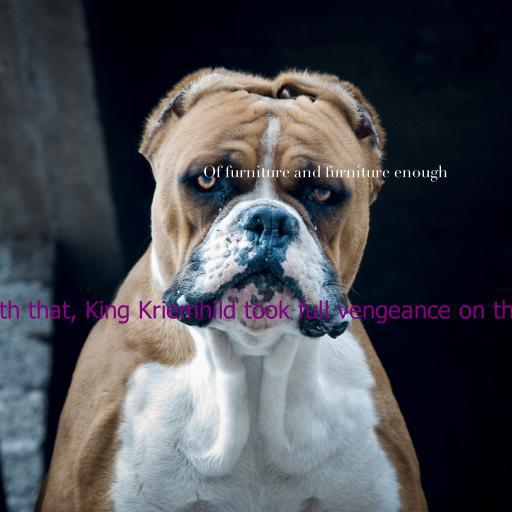Didot: (202, 165, 448, 182)
Tahoma: (0, 300, 512, 324)
